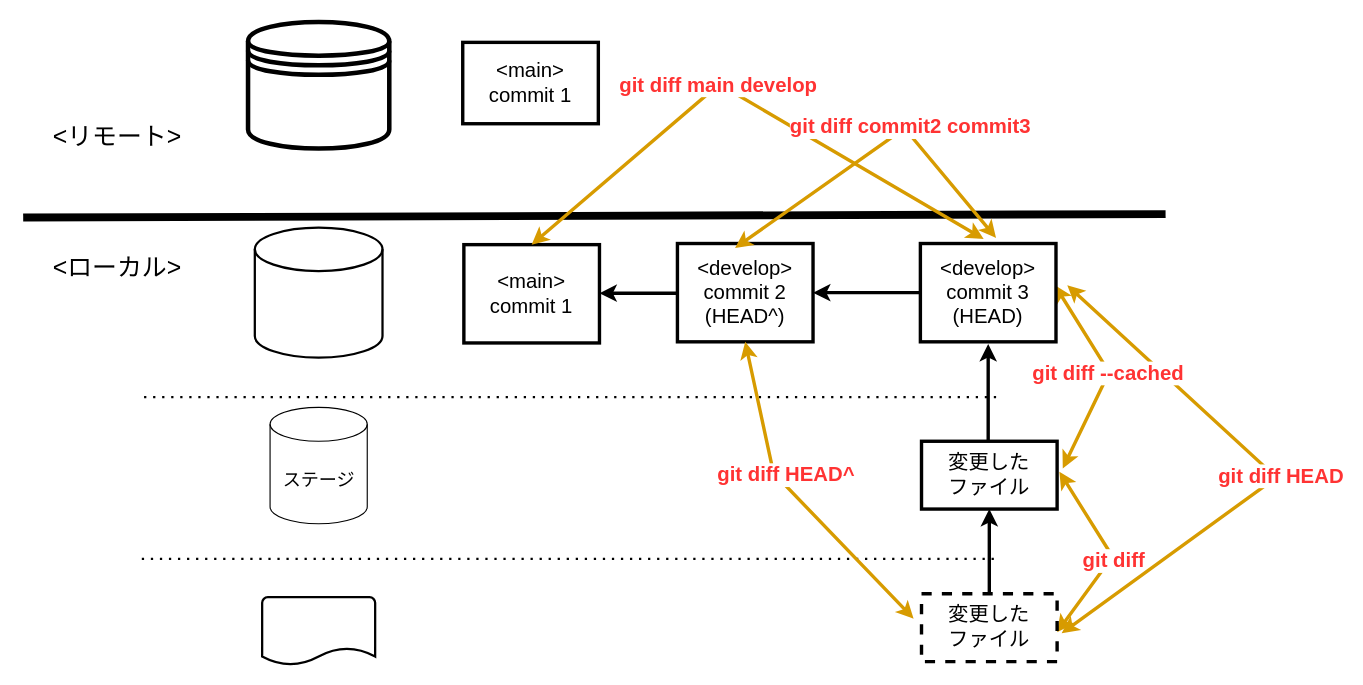
This 1363x685 diagram has some shape labels left out. The centre of each missing label's shape, as x and y in pixels:
リモート リポジトリ: point 318,84
ローカル リポジトリ: point 318,292
ワークツリー: point 318,631
